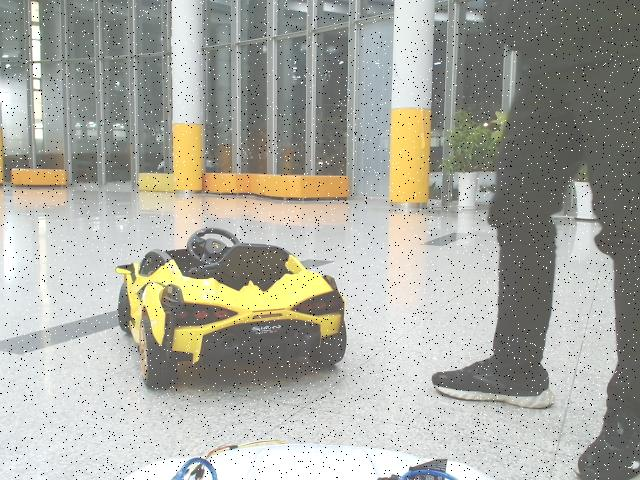car: (114, 228, 349, 391)
